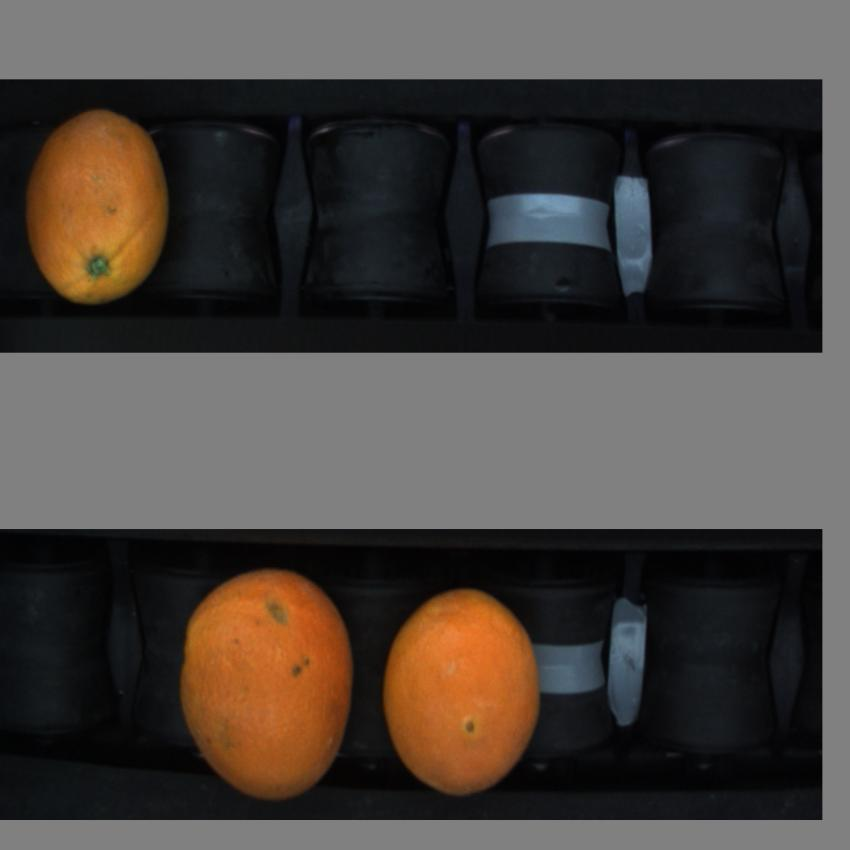Buen estado: (173, 566, 364, 806), (378, 577, 547, 802), (20, 104, 180, 322)
